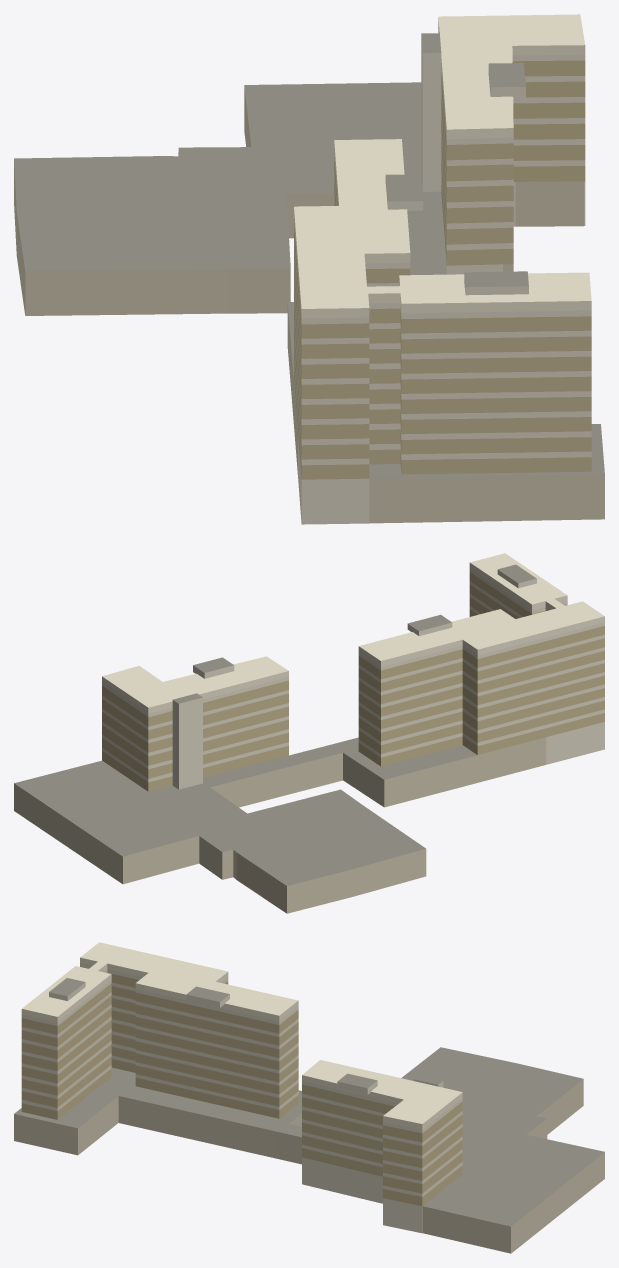
Rendered from golden_nugget_las_vega_w206151446.glb.
3 views of the same model, one above another, from view 1: azimuth 30°, elevation 25°; view 2: azimuth 150°, elevation 25°; view 3: azimuth 270°, elevation 25° (orthographic). The views are drawn at different scales.
Visible parts, largest first — view 1: Tower_w206151446; view 2: Tower_w206151446; view 3: Tower_w206151446.
Boxes of the visible parts, left/top/right/bottom form: Tower_w206151446: left=14, top=14, right=604, bottom=524; Tower_w206151446: left=14, top=553, right=604, bottom=913; Tower_w206151446: left=14, top=942, right=604, bottom=1253.
Bounding box in the file's own units: 201 × 69.8 × 277.
